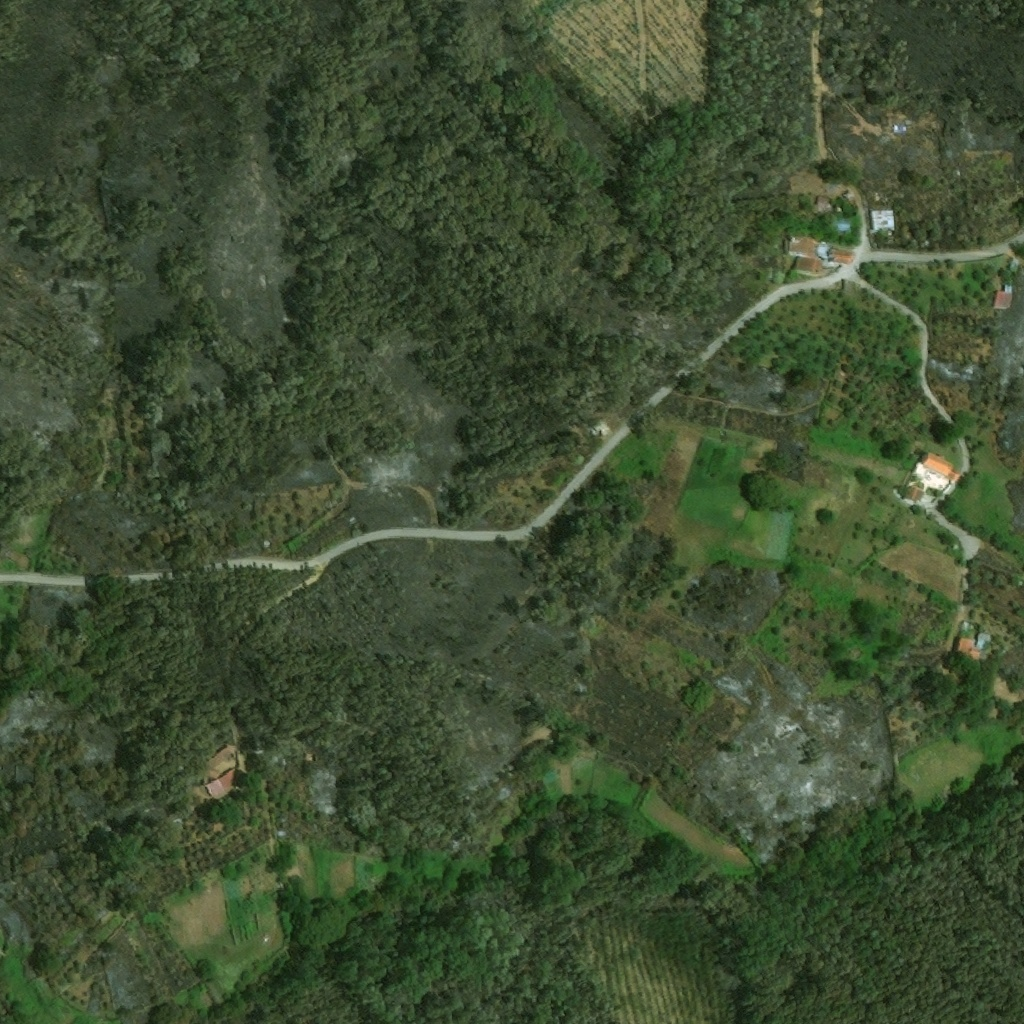0 no-damage: (923, 453, 964, 482), (208, 768, 241, 801), (795, 256, 824, 274), (872, 211, 896, 229), (790, 237, 816, 253), (961, 638, 981, 656), (834, 249, 856, 263), (817, 242, 833, 260), (905, 487, 920, 503), (818, 197, 834, 211), (995, 292, 1008, 309), (844, 188, 856, 202), (837, 221, 852, 230), (1006, 282, 1014, 292)
